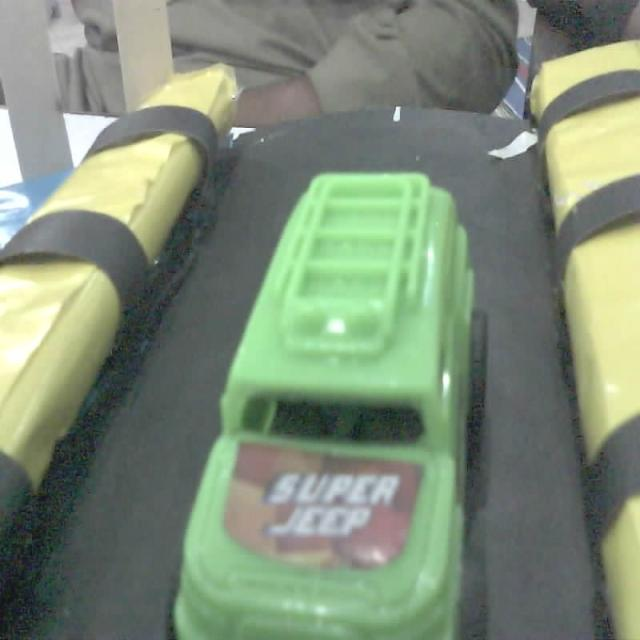OneCar: (164, 173, 491, 639)
